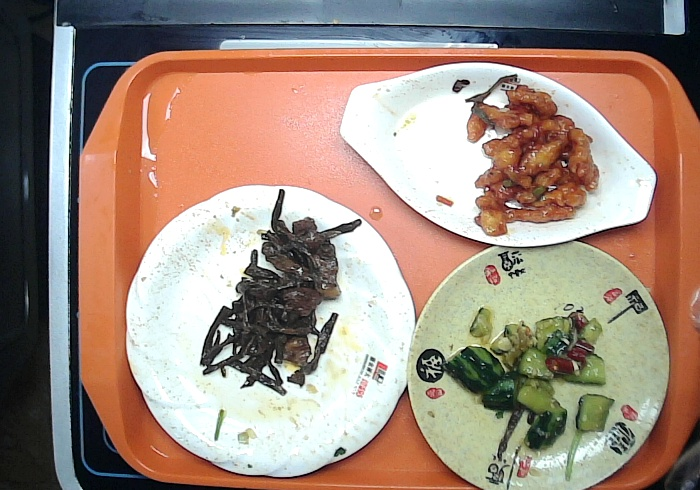NLDX-Bai_Zhe_Yuan_Pan: (120, 181, 417, 481)
NLDX-Fu_Zi_Yuan_Pan: (404, 243, 671, 490)
NLDX-Yu_Pan: (339, 58, 661, 249)
